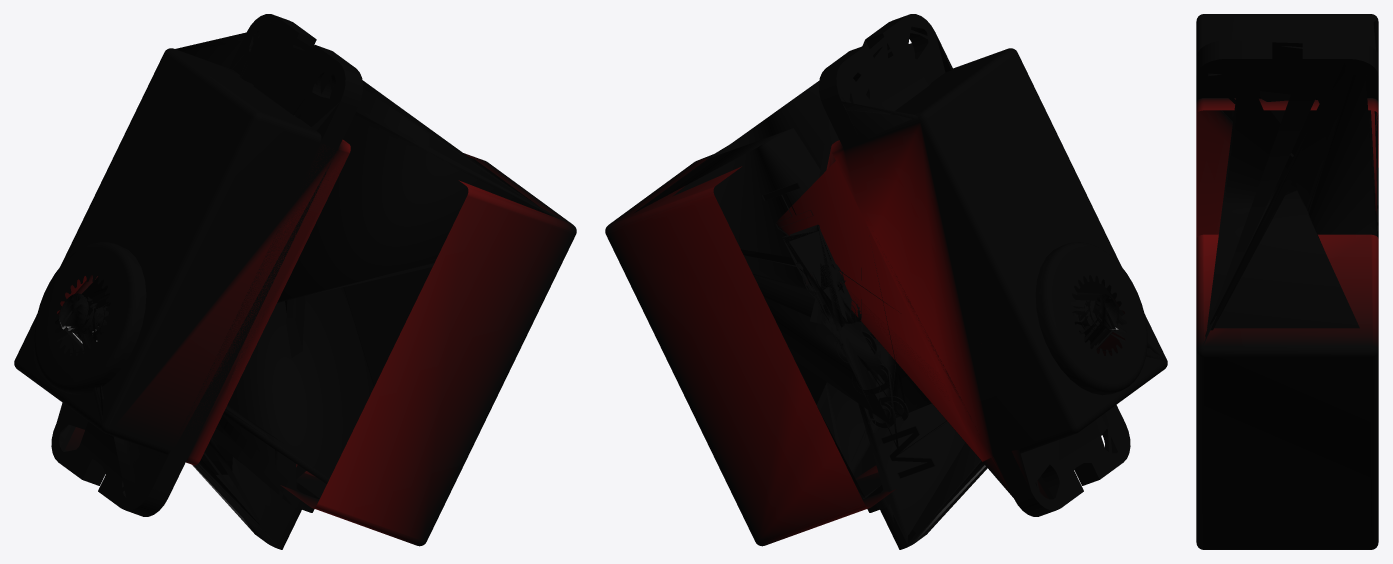
File: thumb0_link.dae
3 views of the same model, side by side, from view 1: azimuth 30°, elevation 25°; view 2: azimuth 150°, elevation 25°; view 3: azimuth 270°, elevation 25° (orthographic). The views are drawn at different scales.
Visible parts, largest first — view 1: node0, node6, node2; view 2: node0, node6, node2; view 3: node0, node6, node2.
Part boxes in pixels (left/top/right/bottom): node0: left=14, top=14, right=576, bottom=549; node6: left=15, top=15, right=569, bottom=548; node2: left=60, top=16, right=349, bottom=548; node0: left=605, top=14, right=1167, bottom=549; node6: left=633, top=14, right=1164, bottom=549; node2: left=741, top=14, right=1165, bottom=547; node0: left=1196, top=14, right=1378, bottom=549; node6: left=1196, top=20, right=1378, bottom=356; node2: left=1196, top=17, right=1378, bottom=547.
Bounding box in the file's own units: 0.0355 × 0.035 × 0.012.
